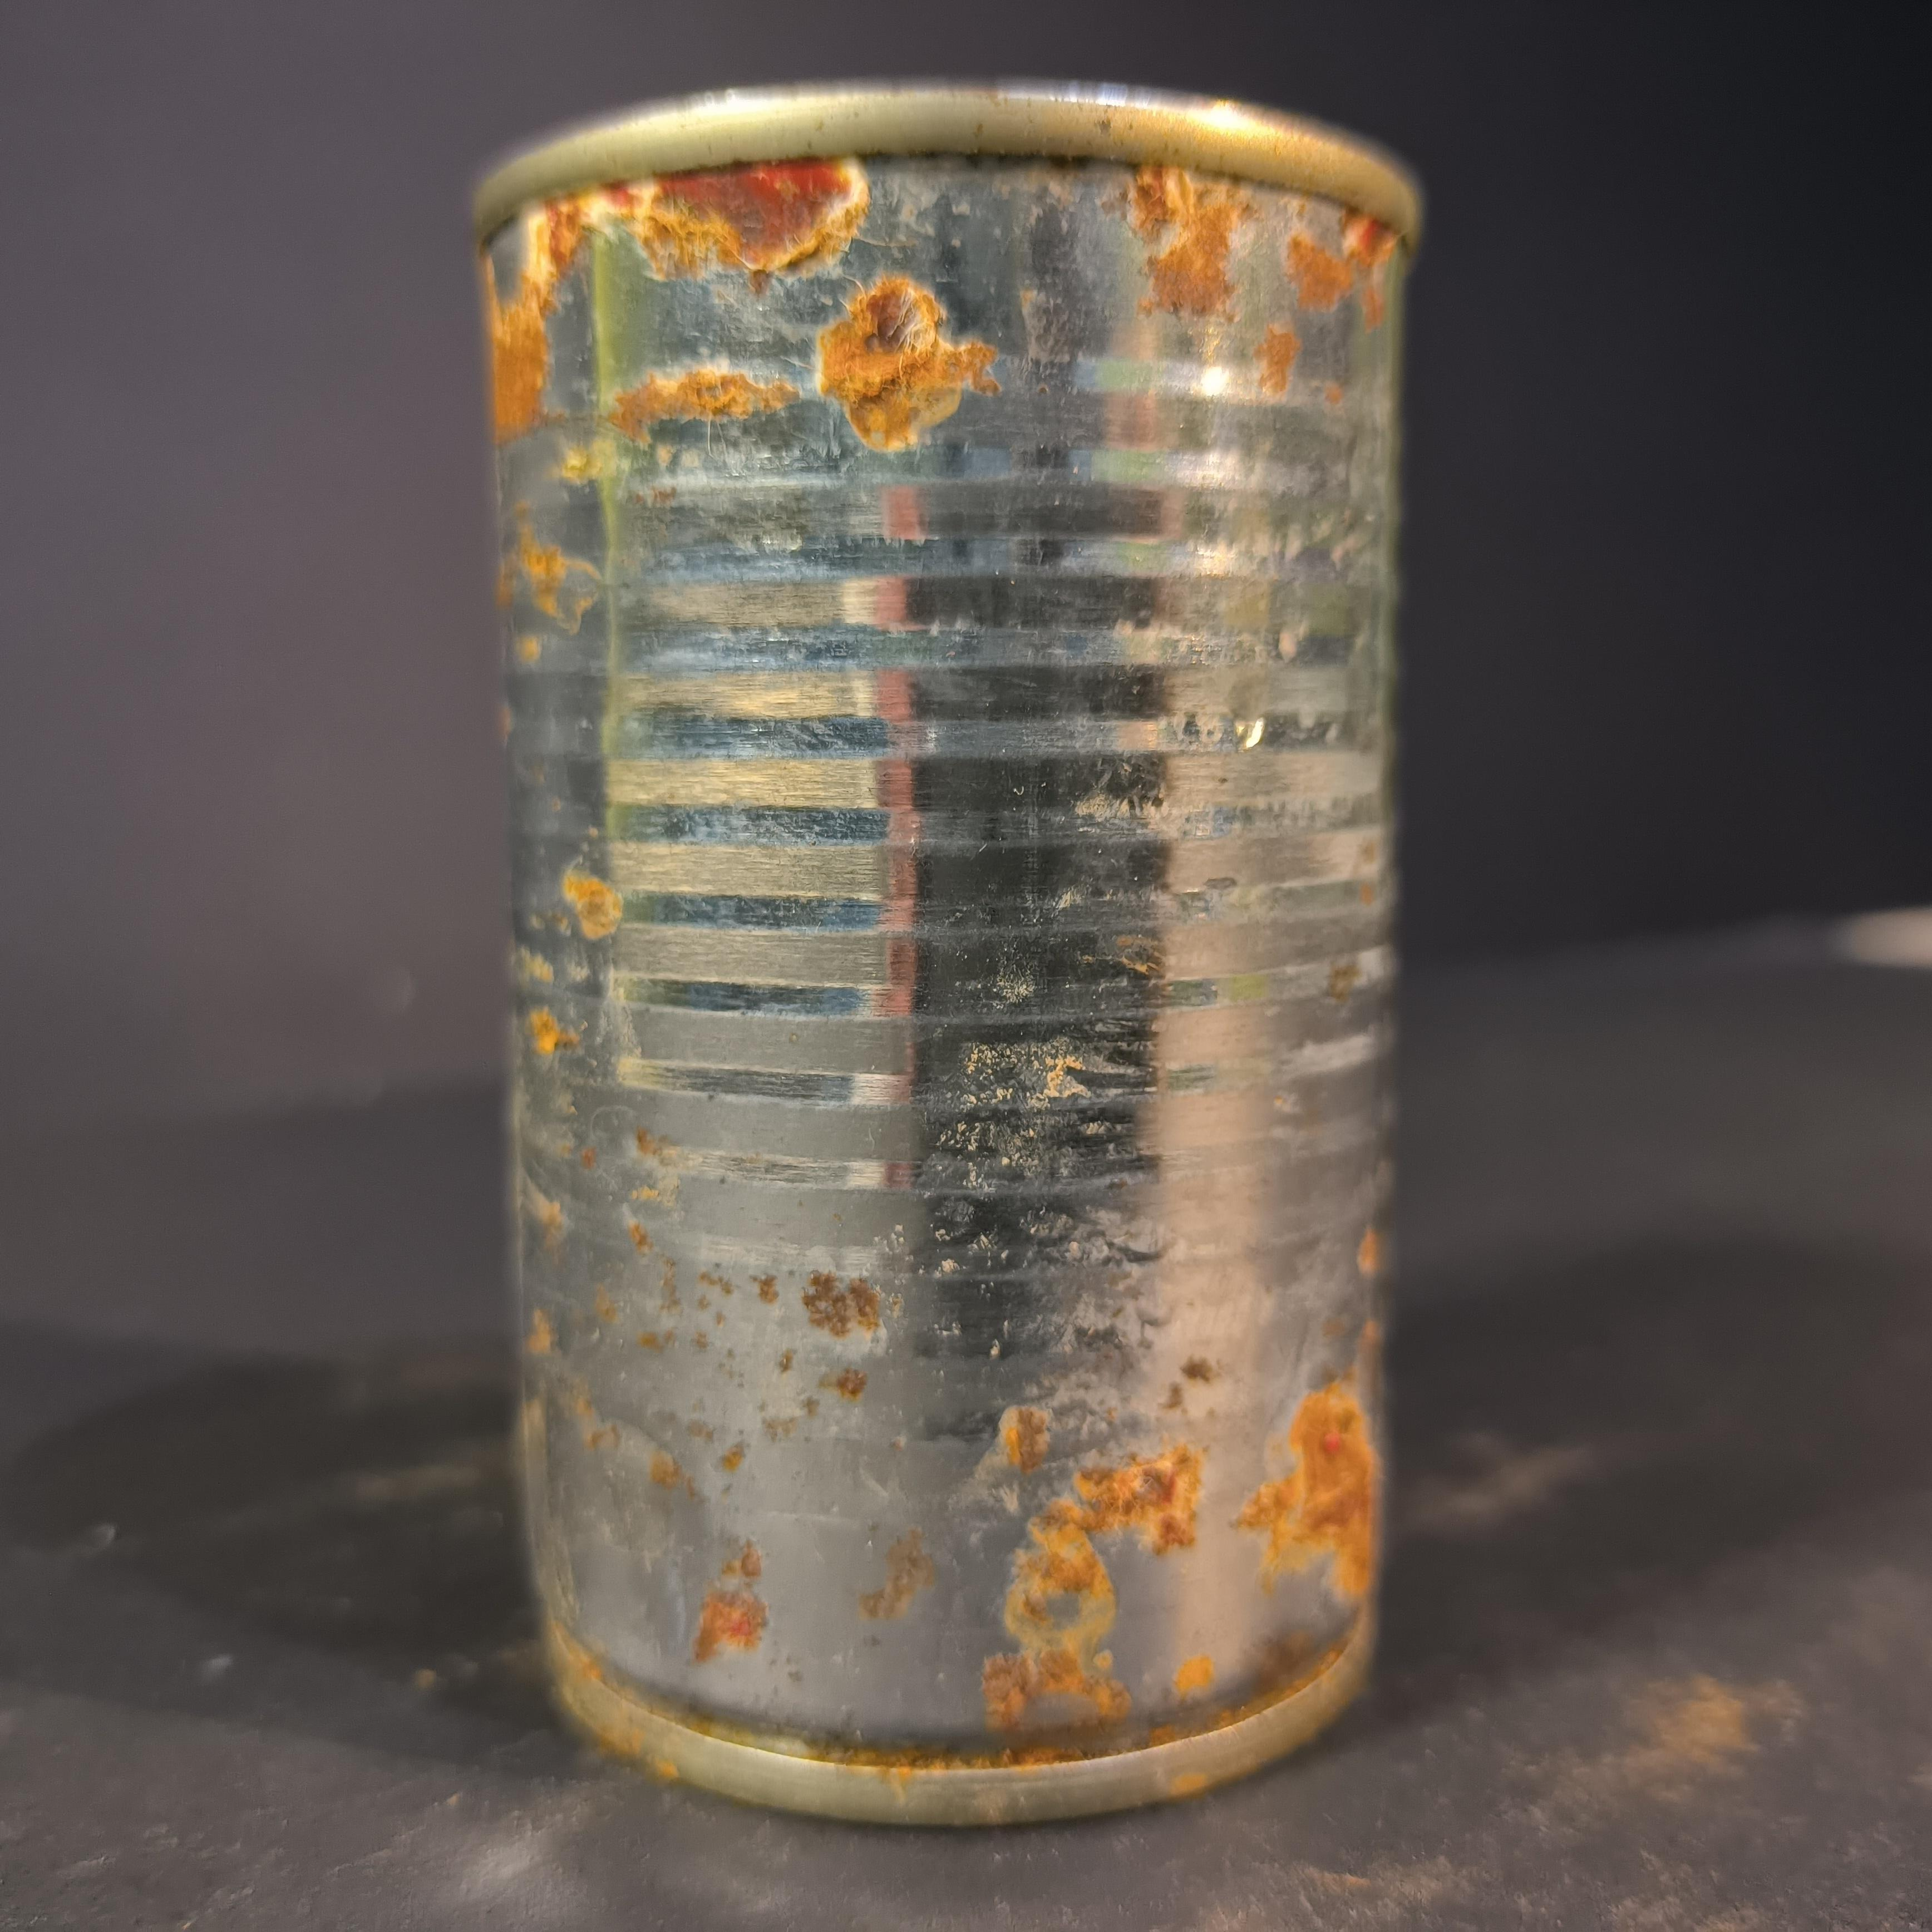Rusted: (453, 48, 1447, 1856)
